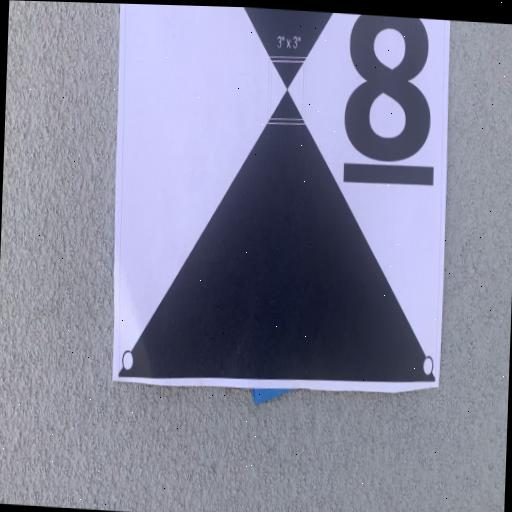target8: (111, 4, 450, 388)
